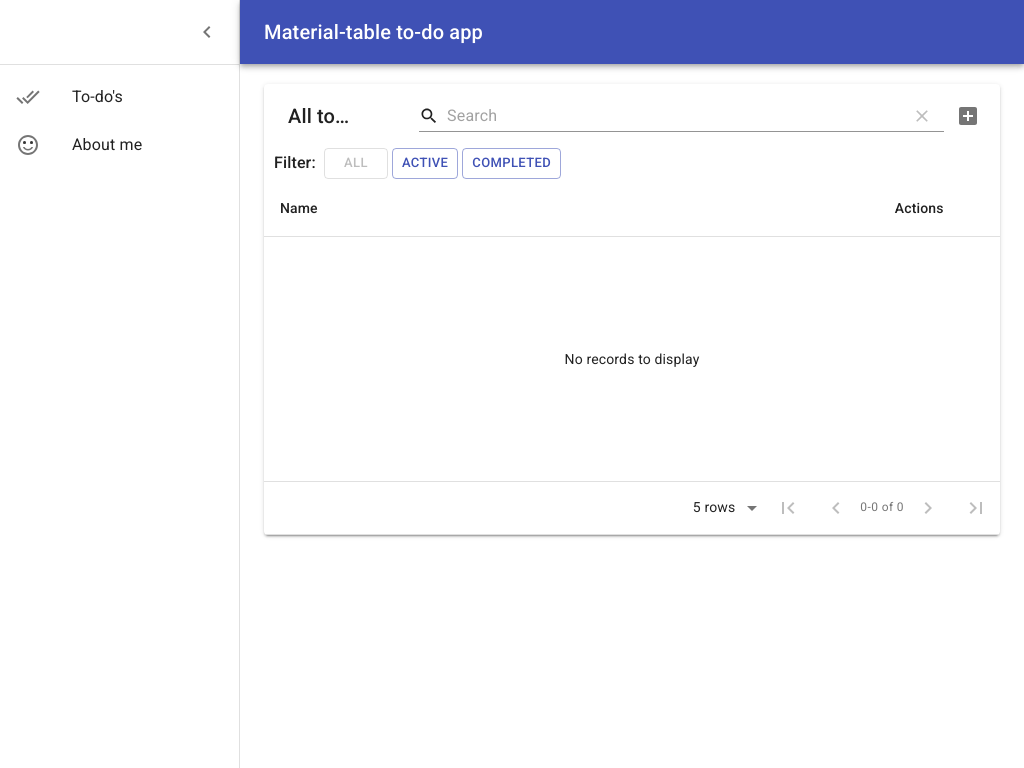
Test case: can add a new todo
This screenshot has width=1024, height=768.
Click the button titled "Add". click: {"x": 968, "y": 116}
box: [944, 92, 992, 140]
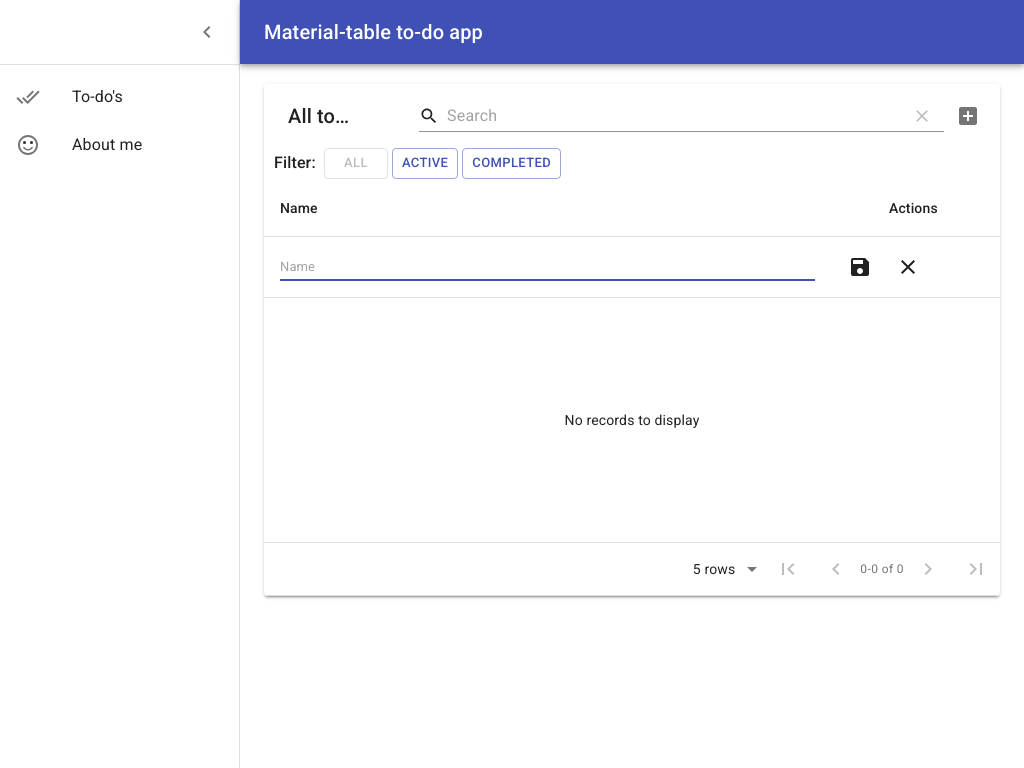
Type "My first todo" into the field with placeholder "Name". click: {"x": 547, "y": 267}
box: [280, 253, 815, 281]
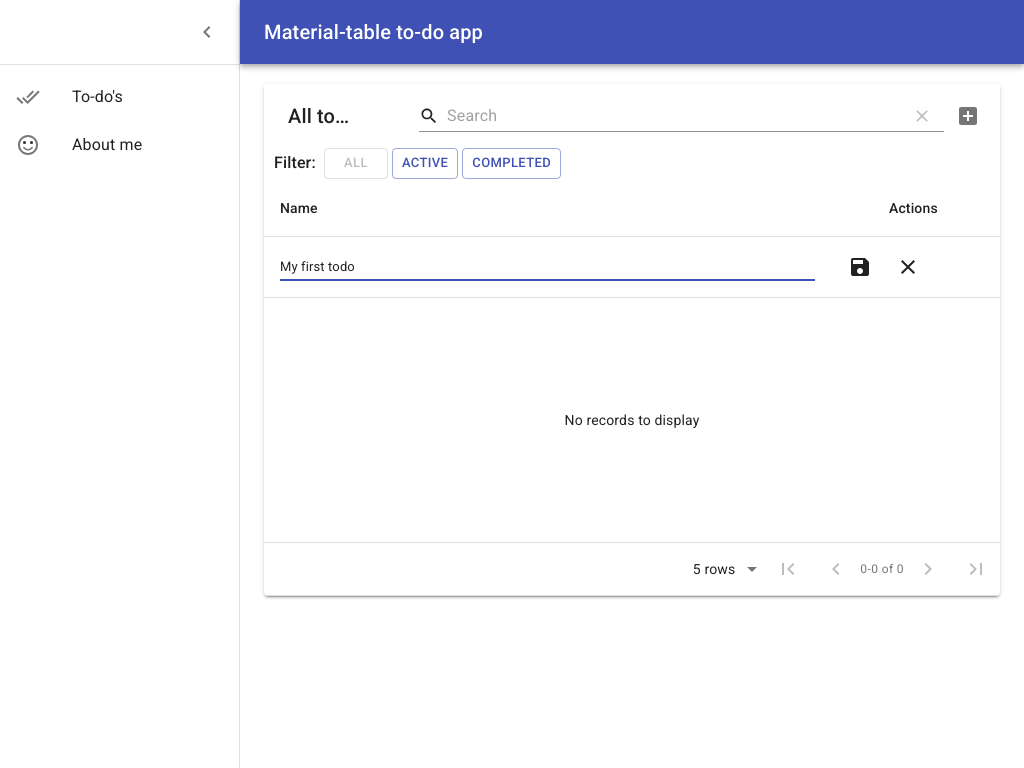
Click the button titled "Save". click: {"x": 860, "y": 267}
box: [836, 243, 884, 291]
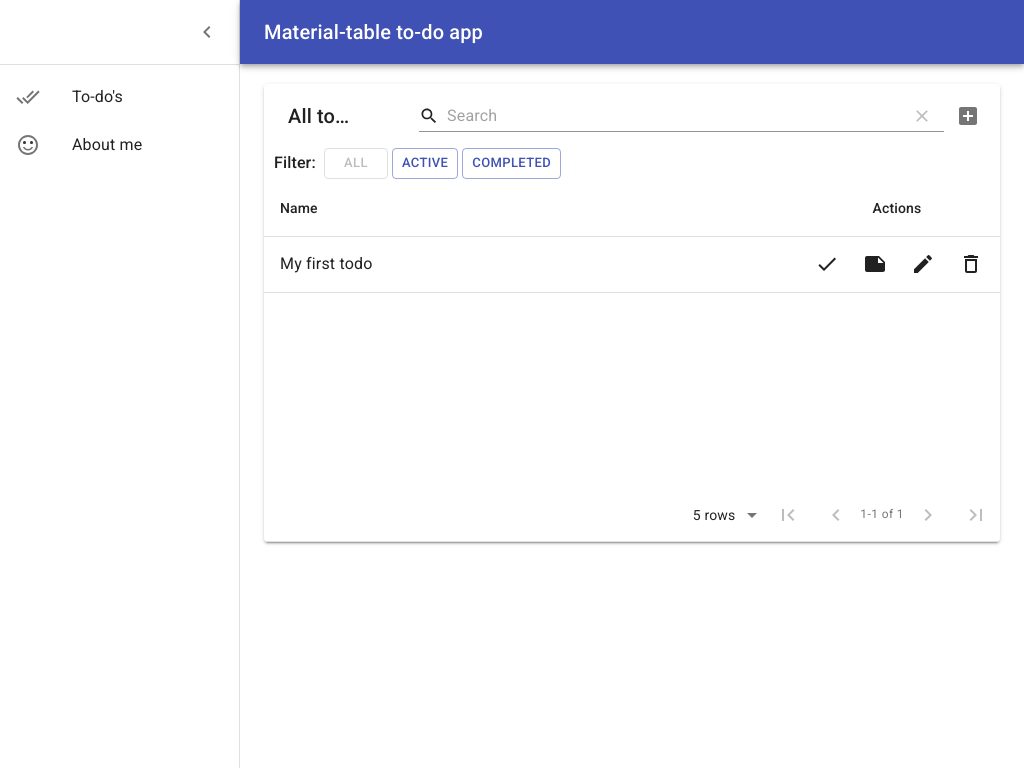
Expected: the text "My first todo" is shown, [264, 236, 798, 292]
